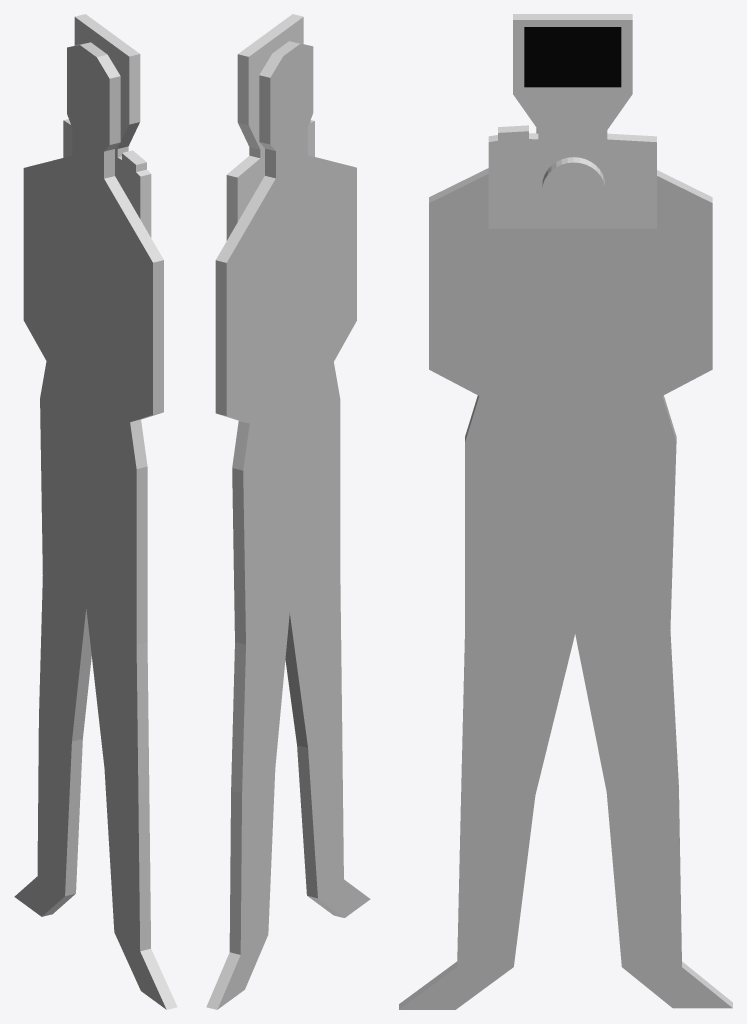
The model's file is BONHOMMEPHOTO1.fbx.
3 views of the same model, side by side, from view 1: azimuth 30°, elevation 25°; view 2: azimuth 150°, elevation 25°; view 3: azimuth 270°, elevation 25° (orthographic). The views are drawn at different scales.
Parts seen in each view (by area): view 1: Pers1PHoto; view 2: Pers1PHoto; view 3: Pers1PHoto.
Boxes of the visible parts, x1,y1,x2,y2 form: Pers1PHoto: (14,14,177,1009); Pers1PHoto: (206,14,370,1009); Pers1PHoto: (399,14,732,1009).
Bounding box in the file's own units: 16.22 × 397 × 120.
3 materials, 1 textured.
